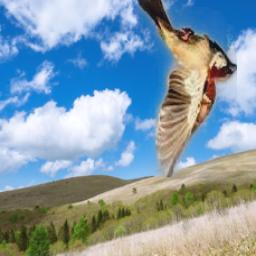Sparrow: (136, 0, 237, 177)
